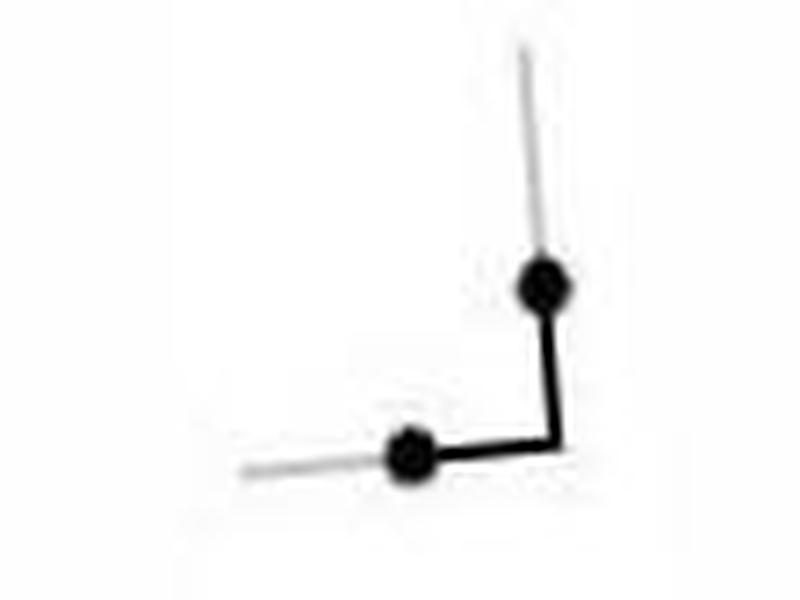butt_weld_90: (211, 164, 633, 505)
